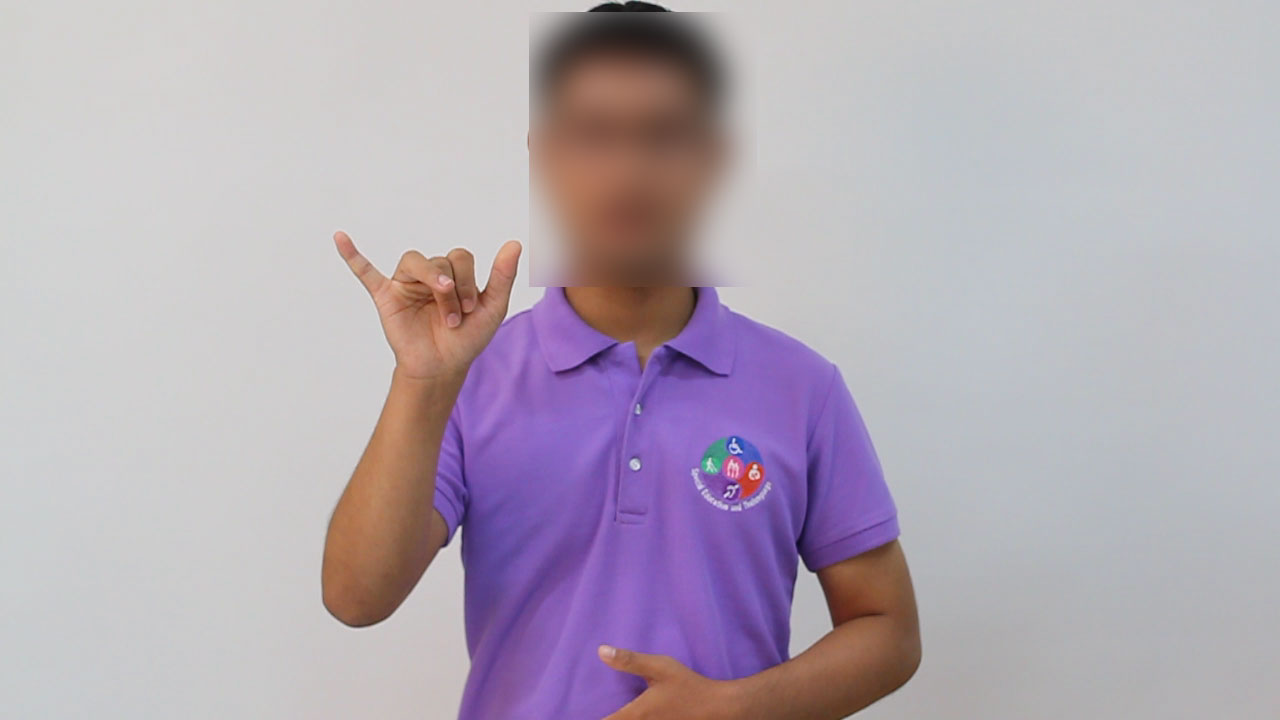yor: (321, 218, 532, 396)
